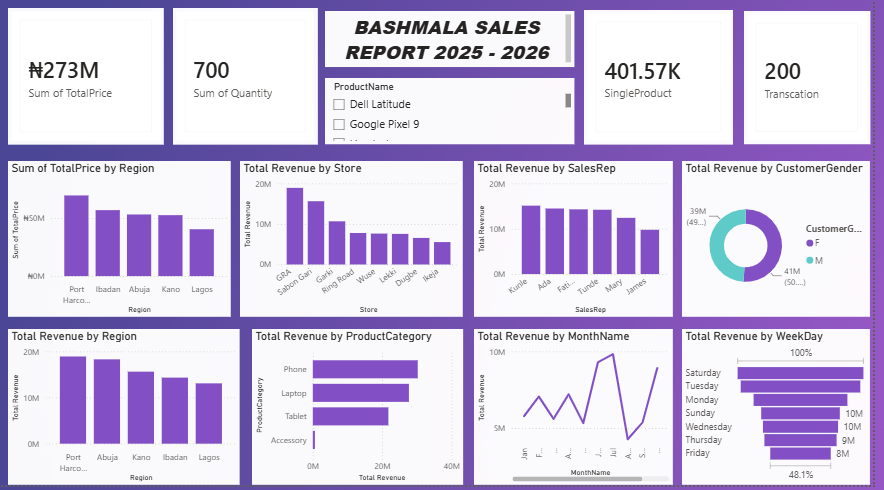

Layout of this report page (visuals, bound fields, positions):
{"tool":"powerbi","page":{"name":"Page 1","canvas":[1280,720],"ordinal":0},"visuals":[{"type":"cardVisual","fields":{"Data":["Sum(Retail_Sales_200.TotalPrice)"]},"box":[13.4,21.8,228.5,199.9],"z":0},{"type":"clusteredColumnChart","fields":{"Category":["Retail_Sales_200.Region"],"Y":["Sum(Retail_Sales_200.TotalPrice)"]},"box":[13.4,245.2,325.9,228.5],"z":1000},{"type":"clusteredBarChart","fields":{"Category":["Retail_Sales_200.ProductCategory"],"Y":["Retail_Sales_200.Revenue"]},"box":[369.6,492.2,309.1,228.5],"z":2000},{"type":"cardVisual","fields":{"Data":["Sum(Retail_Sales_200.Quantity)"]},"box":[255.3,21.8,211.7,199.9],"z":3000},{"type":"donutChart","fields":{"Category":["Retail_Sales_200.CustomerGender"],"Y":["Retail_Sales_200.Revenue"]},"box":[999.5,245.2,275.5,228.5],"z":4000},{"type":"slicer","fields":{"Values":["Retail_Sales_200.ProductName"]},"box":[477.1,124.3,364.5,97.4],"z":5000},{"type":"textbox","box":[477.1,26.9,364.5,82.3],"z":6000},{"type":"cardVisual","fields":{"Data":["Retail_Sales_200.SingleProduct"]},"box":[856.7,25.2,218.4,196.5],"z":7000},{"type":"cardVisual","fields":{"Data":["Retail_Sales_200.Transcation"]},"box":[1090.2,26.9,184.8,194.9],"z":8000},{"type":"clusteredColumnChart","fields":{"Y":["Retail_Sales_200.Revenue"],"Category":["Retail_Sales_200.Store"]},"box":[352.8,245.2,325.9,228.5],"z":9000},{"type":"clusteredColumnChart","fields":{"Category":["Retail_Sales_200.SalesRep"],"Y":["Retail_Sales_200.Revenue"]},"box":[695.4,245.2,290.6,228.5],"z":10000},{"type":"clusteredColumnChart","fields":{"Y":["Retail_Sales_200.Revenue"],"Category":["Retail_Sales_200.Region"]},"box":[13.4,492.2,339.3,227.8],"z":11000},{"type":"lineChart","fields":{"Y":["Retail_Sales_200.Total Revenue"],"Category":["Retail_Sales_200.MonthName"]},"box":[695.4,492.2,290.6,228.5],"z":12000},{"type":"funnel","fields":{"Y":["Retail_Sales_200.Total Revenue"],"Category":["Retail_Sales_200.SalesWeekD"]},"box":[999.5,492.2,275.5,227.8],"z":13000}]}

Visuals, with their boxes in screenshot pixels (x1, y1, x2, y2), scaled from the page's 1280x720 canvas onto the 884x490 screenshot:
cardVisual - Sum(Retail_Sales_200.TotalPrice): (9, 15, 167, 151)
clusteredColumnChart - Retail_Sales_200.Region x Sum(Retail_Sales_200.TotalPrice): (9, 167, 234, 322)
clusteredBarChart - Retail_Sales_200.ProductCategory x Retail_Sales_200.Revenue: (255, 335, 469, 489)
cardVisual - Sum(Retail_Sales_200.Quantity): (176, 15, 323, 151)
donutChart - Retail_Sales_200.CustomerGender x Retail_Sales_200.Revenue: (690, 167, 881, 322)
slicer - Retail_Sales_200.ProductName: (329, 85, 581, 151)
textbox: (329, 18, 581, 74)
cardVisual - Retail_Sales_200.SingleProduct: (592, 17, 742, 151)
cardVisual - Retail_Sales_200.Transcation: (753, 18, 881, 151)
clusteredColumnChart - Retail_Sales_200.Revenue x Retail_Sales_200.Store: (244, 167, 469, 322)
clusteredColumnChart - Retail_Sales_200.SalesRep x Retail_Sales_200.Revenue: (480, 167, 681, 322)
clusteredColumnChart - Retail_Sales_200.Revenue x Retail_Sales_200.Region: (9, 335, 244, 489)
lineChart - Retail_Sales_200.Total Revenue x Retail_Sales_200.MonthName: (480, 335, 681, 489)
funnel - Retail_Sales_200.Total Revenue x Retail_Sales_200.SalesWeekD: (690, 335, 881, 489)
